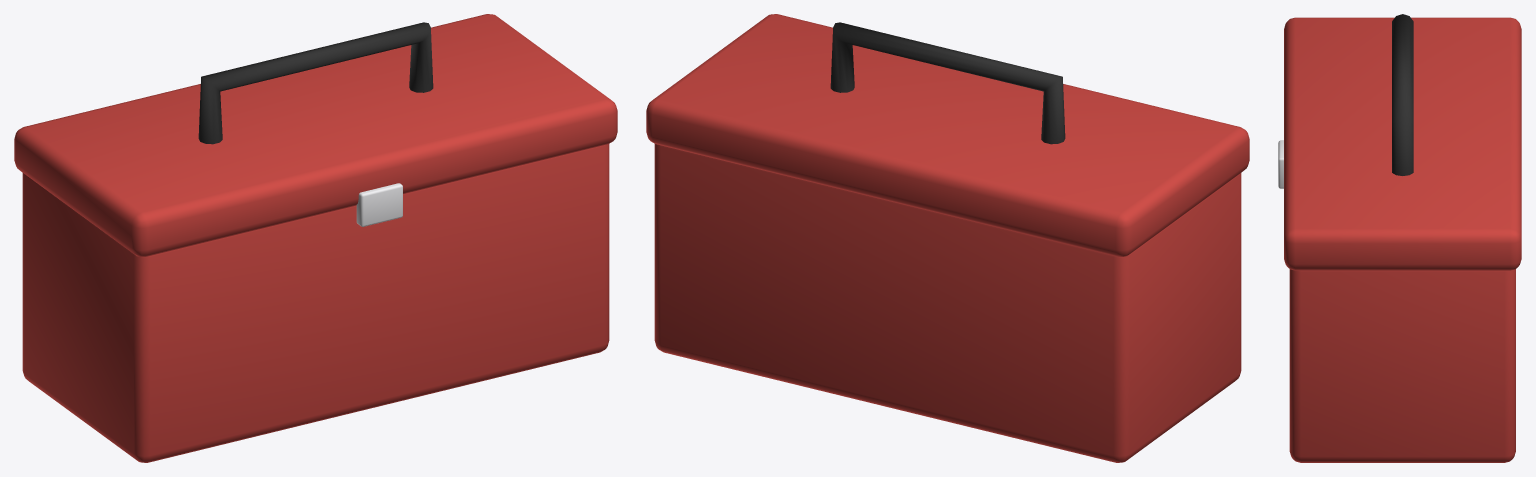
Rendered from toolbox.glb.
3 views of the same model, side by side, from view 1: azimuth 30°, elevation 25°; view 2: azimuth 150°, elevation 25°; view 3: azimuth 270°, elevation 25° (orthographic). The views are drawn at different scales.
Visible parts, largest first — view 1: box, lid, handle, latch; view 2: box, lid, handle; view 3: lid, box, handle, latch.
Part boxes in pixels (bbox=[...]): box: bbox=[22, 144, 609, 462]; lid: bbox=[14, 14, 617, 256]; handle: bbox=[198, 22, 433, 144]; latch: bbox=[356, 183, 402, 226]; box: bbox=[654, 144, 1241, 462]; lid: bbox=[646, 14, 1249, 256]; handle: bbox=[830, 22, 1065, 144]; lid: bbox=[1284, 17, 1521, 270]; box: bbox=[1289, 269, 1515, 462]; handle: bbox=[1392, 14, 1413, 175]; latch: bbox=[1278, 140, 1283, 188].
Bounding box in the file's own units: 0.46 × 0.2871 × 0.215.
